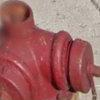Hydrant: (2, 5, 96, 98)
